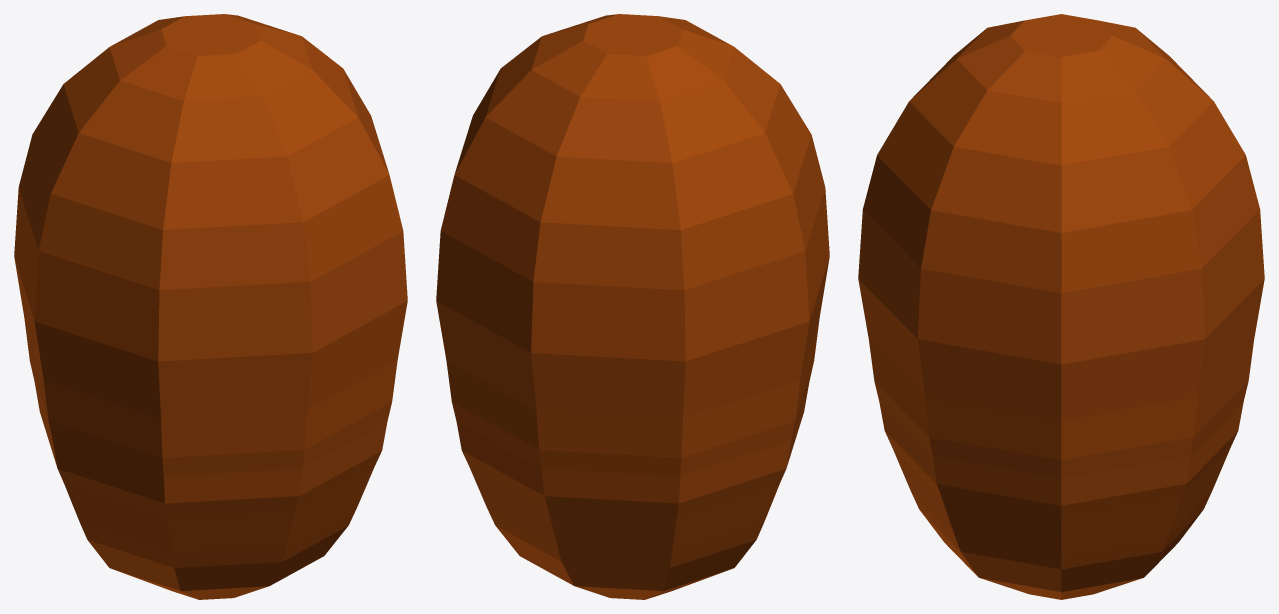
File: Patato.fbx
The picture shows the model from 3 angles, left to right: view 1: azimuth 30°, elevation 25°; view 2: azimuth 150°, elevation 25°; view 3: azimuth 270°, elevation 25°; orthographic projection.
Parts seen in each view (by area): view 1: Cylinder.001; view 2: Cylinder.001; view 3: Cylinder.001.
Boxes of the visible parts, box(x1,y1,x2,y2) form: Cylinder.001: box(14, 14, 407, 599); Cylinder.001: box(436, 14, 829, 599); Cylinder.001: box(858, 14, 1264, 599).
Bounding box in the file's own units: 273 × 404 × 273.
